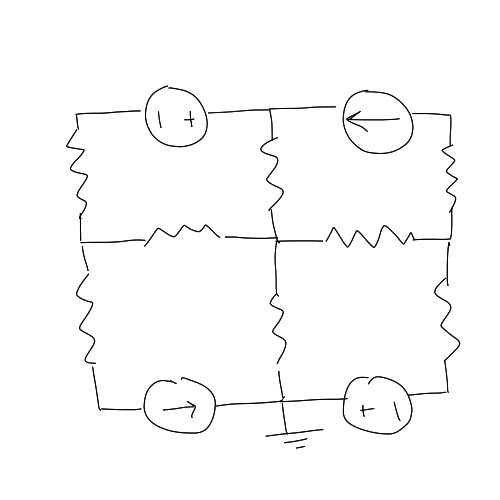dccs: (336, 86, 420, 157), (134, 370, 217, 438)
dcvs: (338, 370, 416, 435), (140, 84, 214, 148)
gnd: (262, 421, 324, 456)
res: (70, 266, 110, 369), (135, 214, 236, 254), (431, 270, 468, 368), (64, 125, 99, 222), (257, 132, 294, 219), (263, 282, 295, 375), (320, 220, 419, 250), (437, 136, 469, 219)
